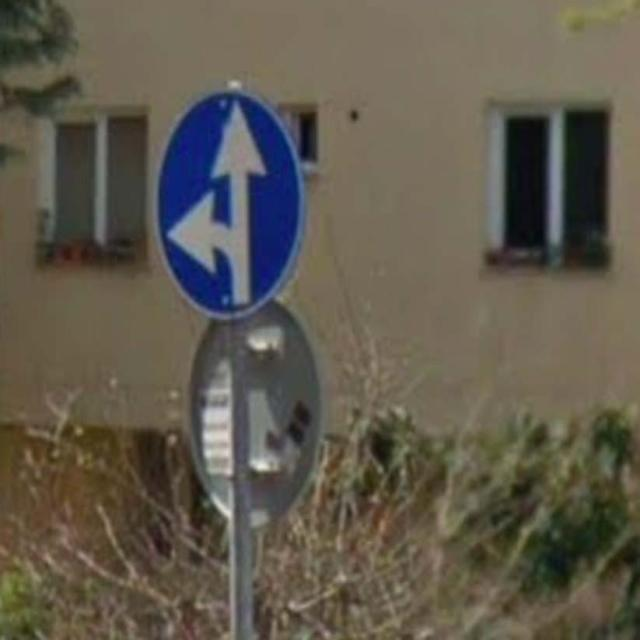ilerisol: (154, 87, 303, 318)
